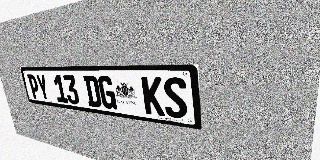1: (52, 75, 68, 103)
3: (63, 75, 80, 105)
D: (83, 75, 102, 108)
G: (97, 76, 117, 110)
K: (141, 76, 165, 116)
P: (27, 74, 41, 100)
S: (162, 77, 188, 119)
Y: (35, 74, 50, 101)
